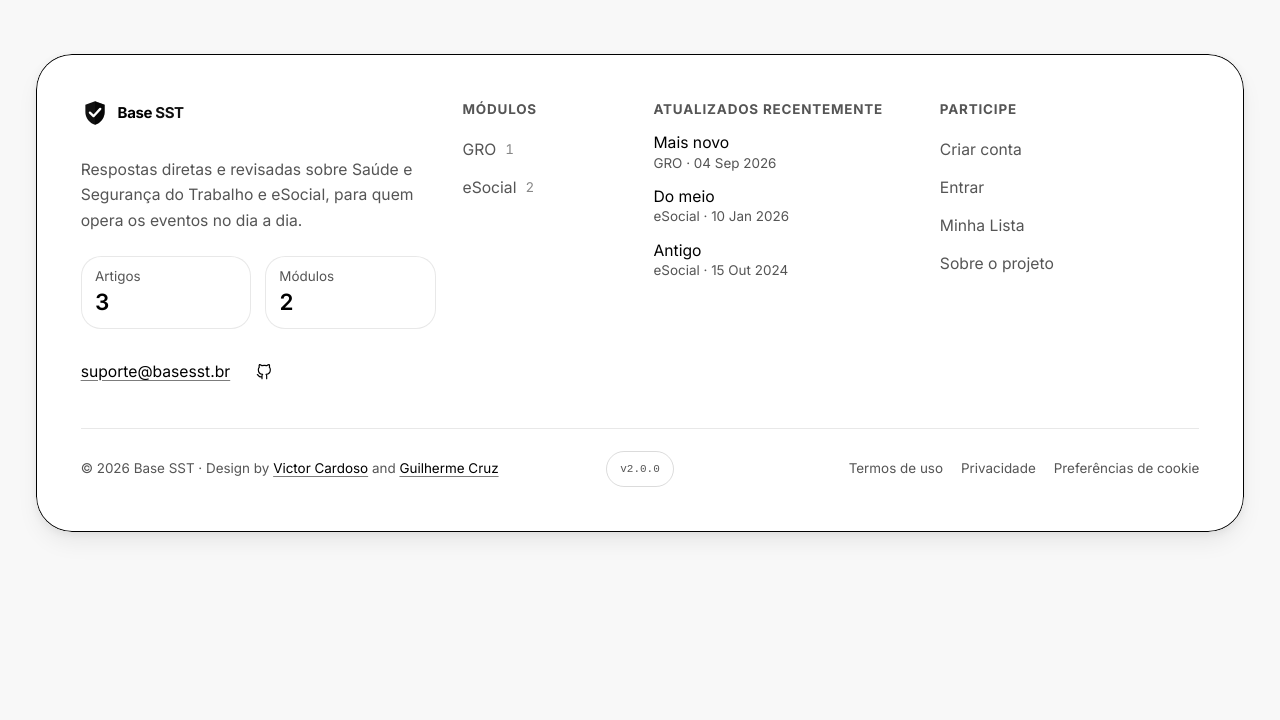
Test: Footer › botão da versão copia v2.0.0 e confirma
The width and height of the screenshot is (1280, 720).
What coordinates should you click on to do the following:
click the button named "Versão v2.0.0: copiar"
I would click on:
 (640, 469)
Its box is [606, 451, 674, 487].
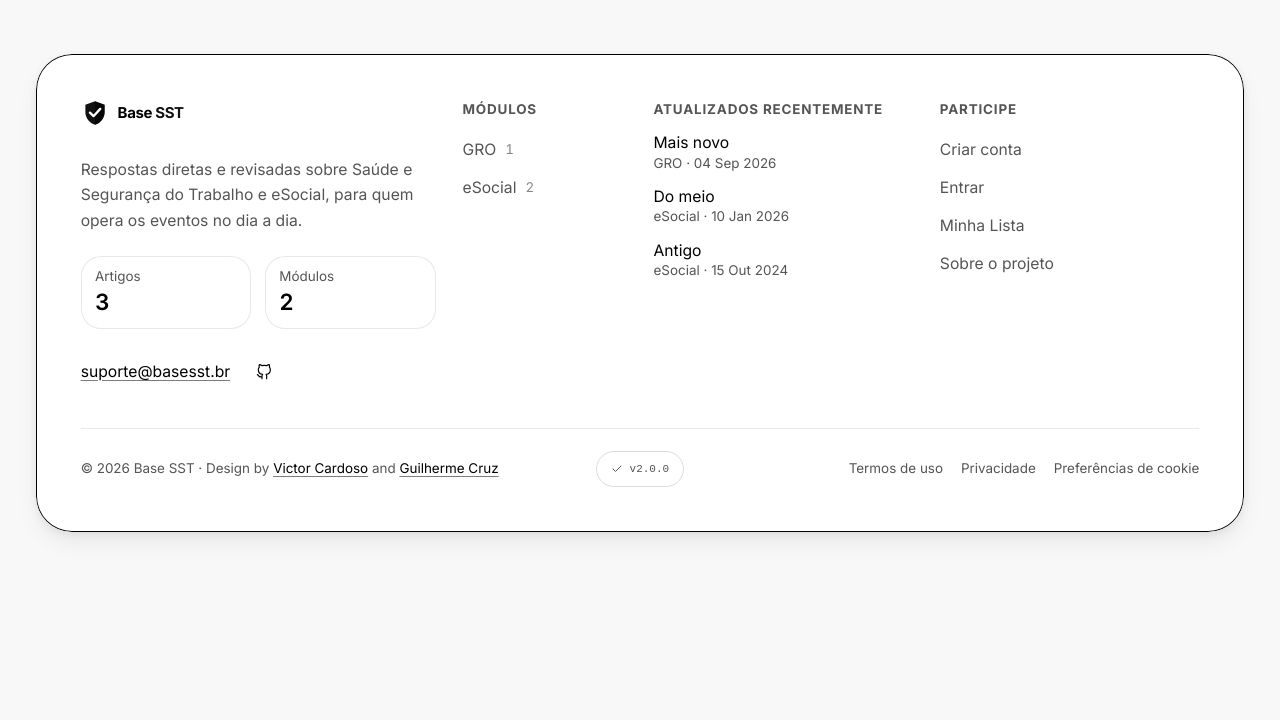
Check: the icon next to "Guilherme Cruz" is shown, box [611, 463, 623, 475]
